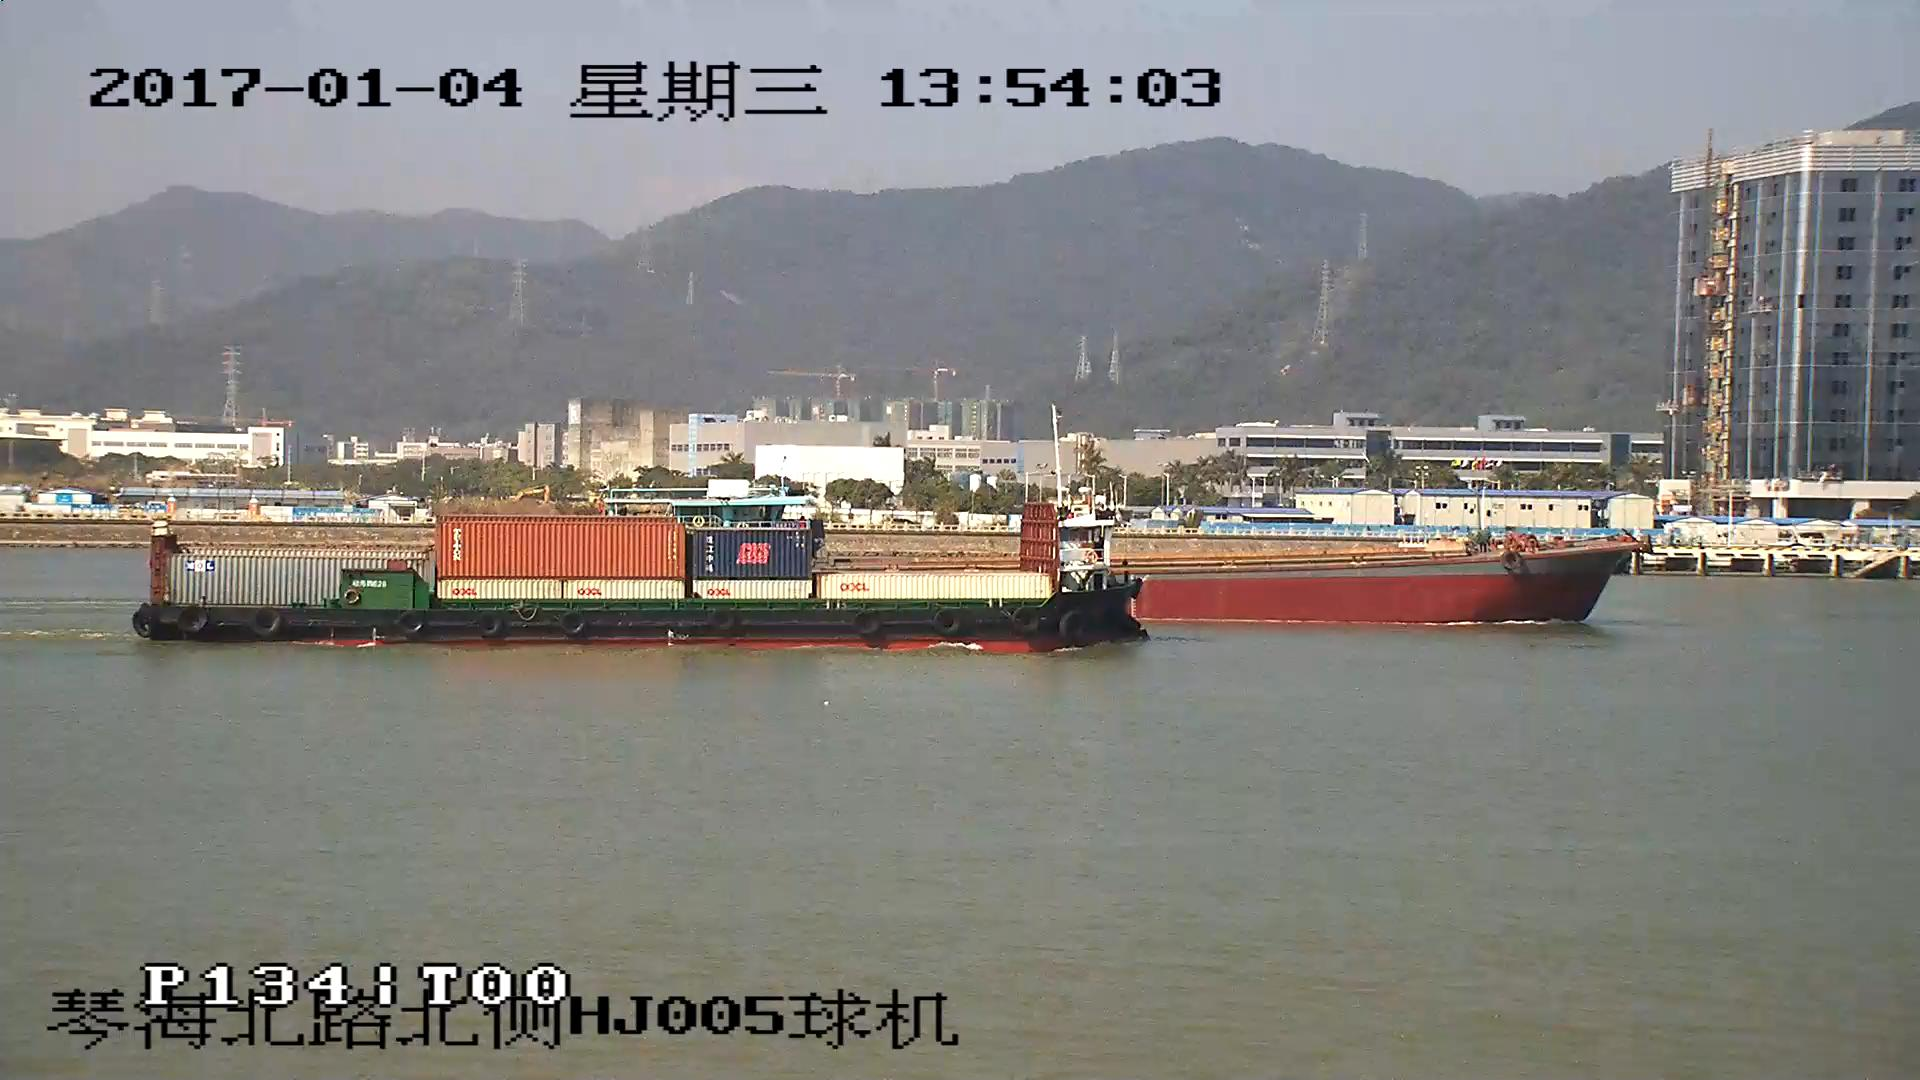bulk cargo carrier: (1147, 531, 1647, 629)
container ship: (131, 505, 1152, 645)
